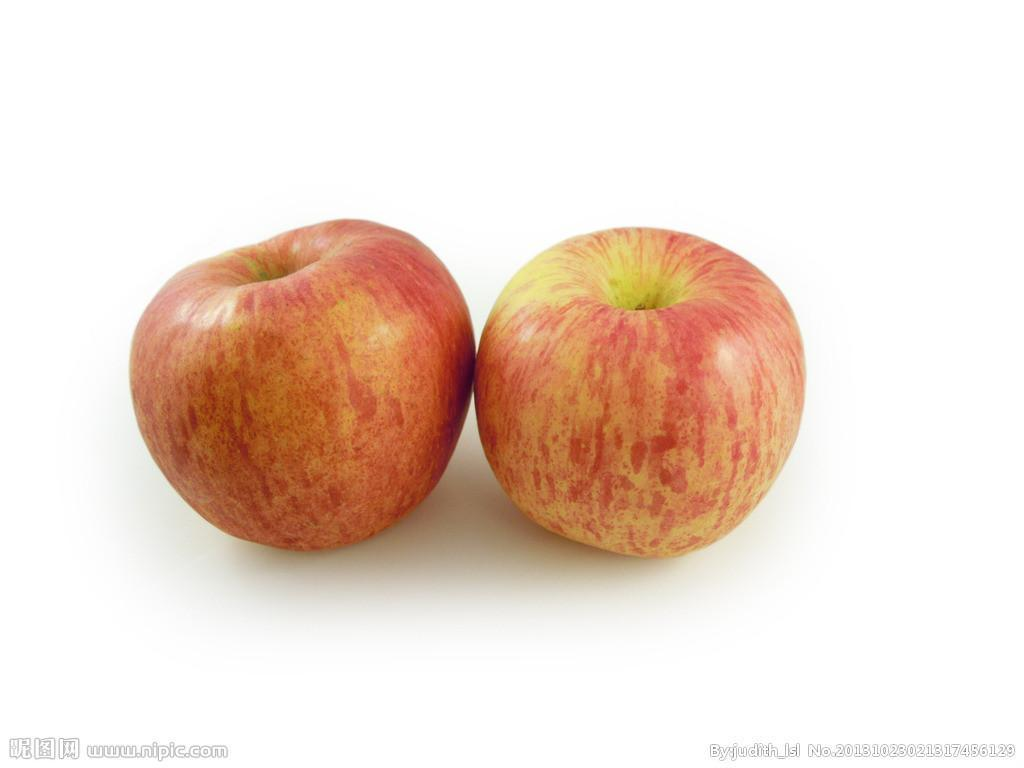apple: (125, 216, 475, 555), (465, 226, 800, 560)
